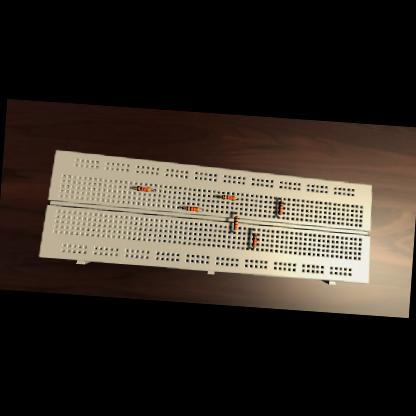breadboard: (38, 149, 376, 287)
resistor: (252, 233, 258, 248), (136, 186, 150, 192), (222, 194, 236, 200), (186, 206, 200, 212), (278, 200, 283, 214), (233, 216, 238, 230)
wire: (277, 214, 280, 218), (253, 230, 256, 233), (278, 198, 282, 200), (218, 196, 222, 198), (236, 212, 238, 216), (252, 248, 255, 250), (182, 207, 186, 208), (234, 230, 236, 232), (200, 209, 202, 210), (133, 188, 135, 188), (151, 190, 156, 190), (236, 198, 238, 198)
